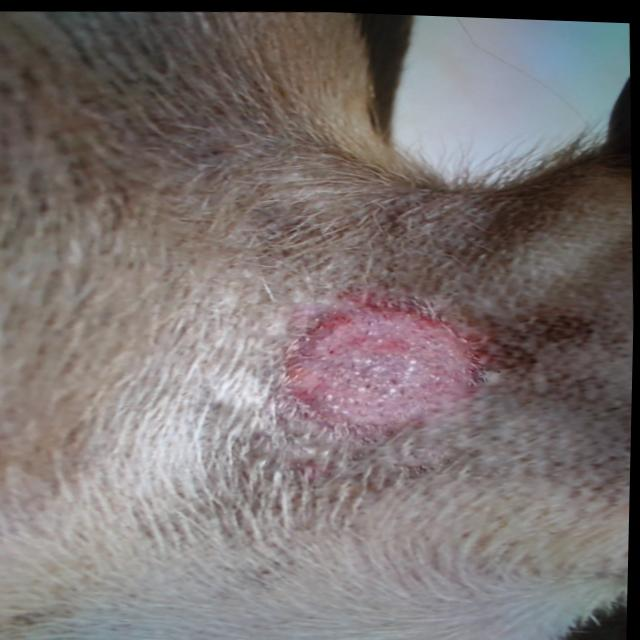ringworm: (279, 290, 506, 477)
